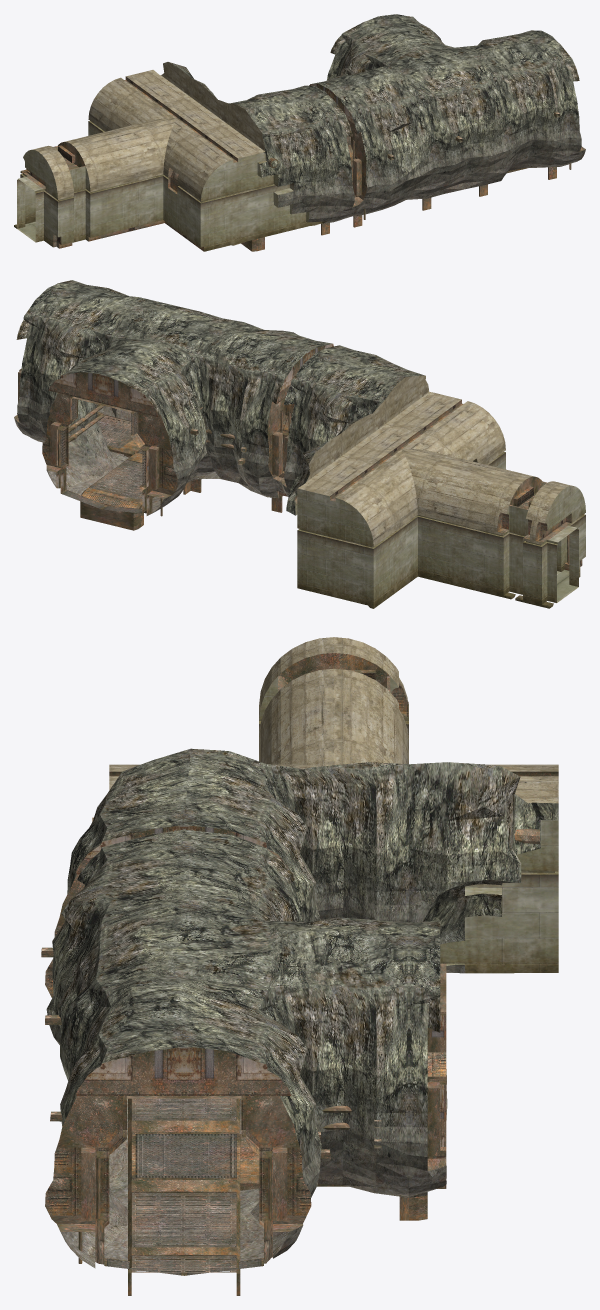
The model's file is poi_all_bunker_allum_mine_r53_hall53_mesh_r53.fbx.
3 renders of one model, top to bottom at view 1: azimuth 30°, elevation 25°; view 2: azimuth 150°, elevation 25°; view 3: azimuth 270°, elevation 25°, orthographic. The views are drawn at different scales.
Parts seen in each view (by area): view 1: mesh_node; view 2: mesh_node; view 3: mesh_node.
Boxes of the visible parts, <box> form: mesh_node: <box>14,14,585,251</box>; mesh_node: <box>14,280,585,608</box>; mesh_node: <box>41,637,558,1295</box>.
Bounding box in the file's own units: 30.03 × 7.73 × 13.82.
